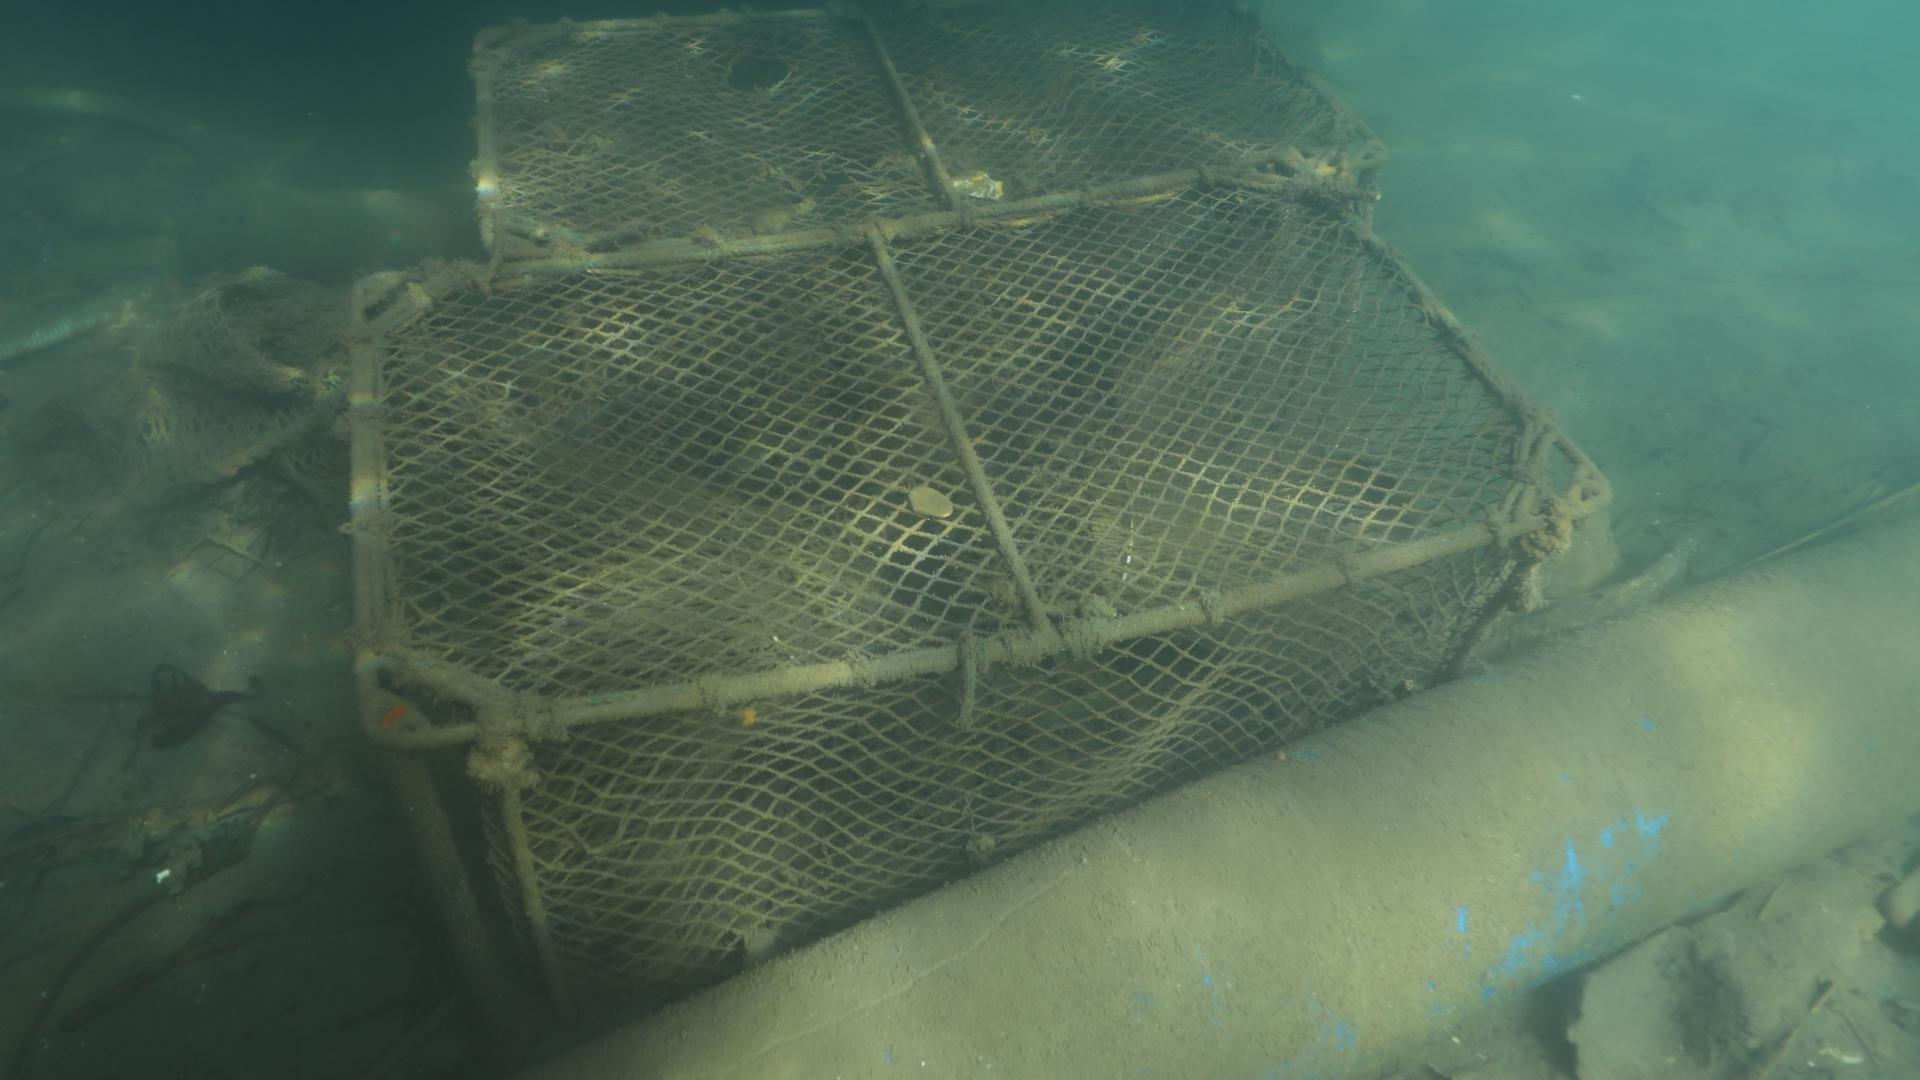rectangular fish trap: (340, 152, 1614, 1044), (452, 9, 1395, 253)
